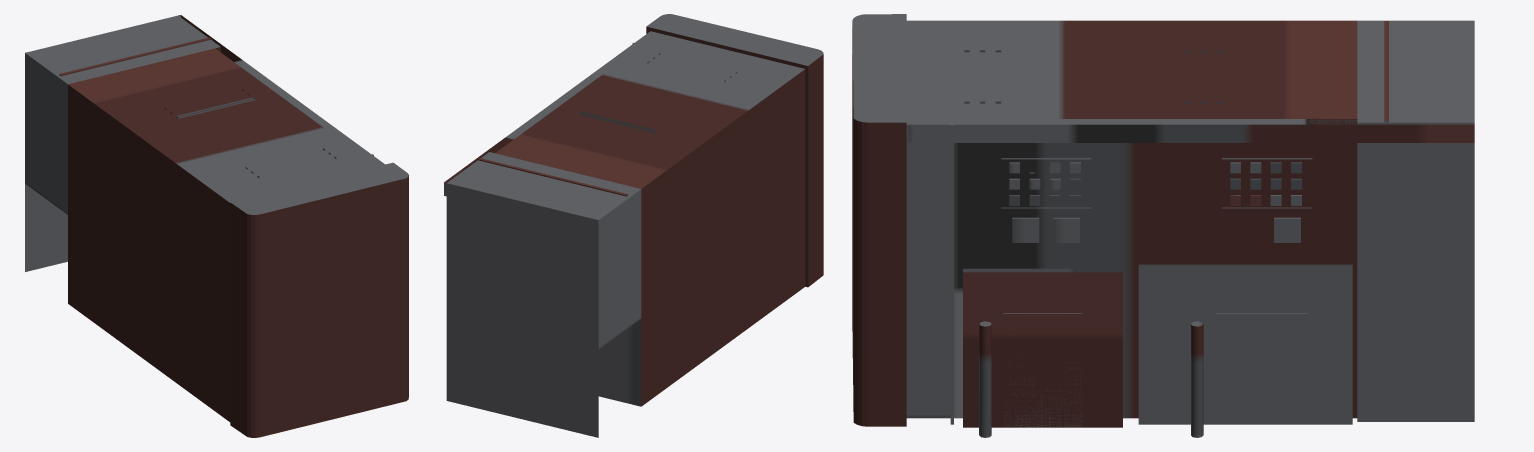
File: section-0.obj
3 views of the same model, side by side, from view 1: azimuth 30°, elevation 25°; view 2: azimuth 150°, elevation 25°; view 3: azimuth 270°, elevation 25° (orthographic). The views are drawn at different scales.
Size of the model in its own units: 0.629 by 0.7445 by 1.48.
